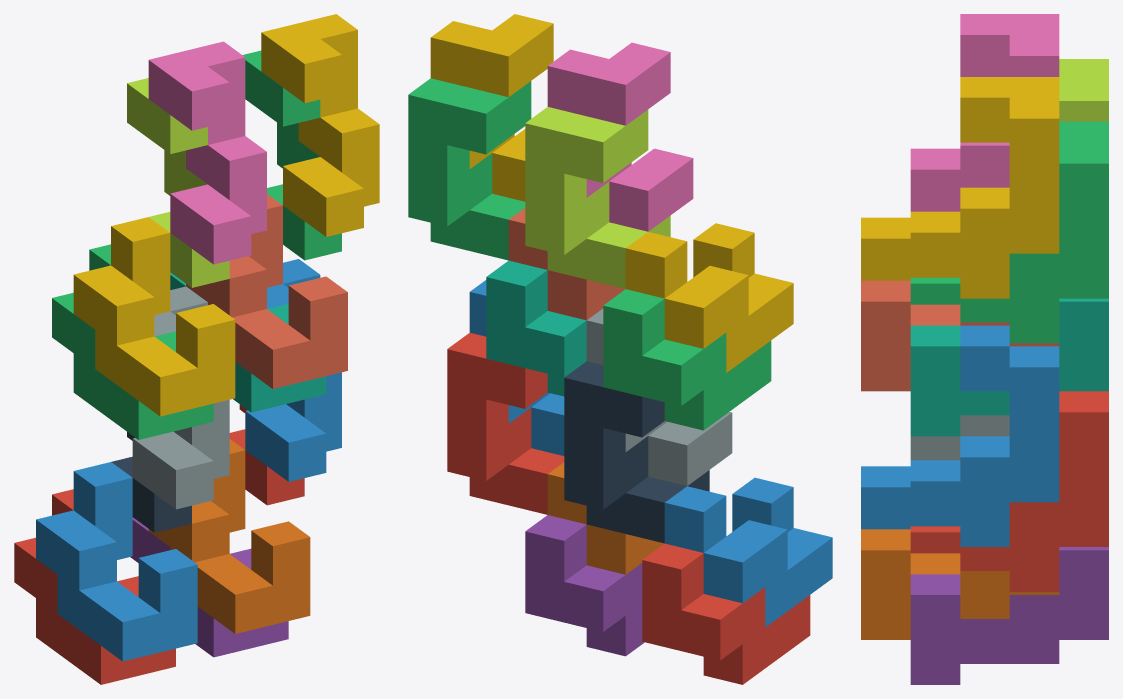
The model's file is tiling.obj.
The picture shows the model from 3 angles, left to right: view 1: azimuth 30°, elevation 25°; view 2: azimuth 150°, elevation 25°; view 3: azimuth 270°, elevation 25°; orthographic projection. The views are drawn at different scales.
Visible parts, largest first — view 1: copy_1_domain_4, copy_1_domain_2, copy_2_domain_4, copy_2_domain_8, copy_1_domain_6, copy_1_domain_8, copy_2_domain_2, copy_2_domain_6, copy_1_domain_3, copy_1_domain_1, copy_2_domain_3, copy_2_domain_7 (+4 smaller); view 2: copy_2_domain_3, copy_2_domain_7, copy_1_domain_4, copy_1_domain_2, copy_2_domain_1, copy_2_domain_5, copy_2_domain_4, copy_1_domain_3, copy_1_domain_1, copy_1_domain_5, copy_2_domain_8, copy_1_domain_7 (+4 smaller); view 3: copy_2_domain_8, copy_2_domain_6, copy_1_domain_5, copy_2_domain_7, copy_2_domain_5, copy_2_domain_4, copy_1_domain_7, copy_1_domain_6, copy_1_domain_8, copy_1_domain_2, copy_1_domain_4, copy_2_domain_3 (+3 smaller).
Boxes of the visible parts, box(x1,y1,x2,y2) form: copy_1_domain_4: box(73, 217, 235, 416); copy_1_domain_2: box(36, 462, 197, 661); copy_2_domain_4: box(148, 41, 266, 264); copy_2_domain_8: box(261, 14, 379, 236); copy_1_domain_6: box(148, 439, 310, 633); copy_1_domain_8: box(186, 194, 347, 388); copy_2_domain_2: box(132, 286, 229, 509); copy_2_domain_6: box(245, 259, 341, 481); copy_1_domain_3: box(52, 244, 213, 439); copy_1_domain_1: box(14, 489, 175, 684); copy_2_domain_3: box(127, 78, 229, 287); copy_2_domain_7: box(242, 50, 341, 260); copy_2_domain_3: box(525, 107, 670, 288); copy_2_domain_7: box(408, 78, 531, 260); copy_1_domain_4: box(625, 223, 793, 372); copy_1_domain_2: box(664, 477, 832, 627); copy_2_domain_1: box(564, 361, 709, 543); copy_2_domain_5: box(447, 333, 564, 514); copy_2_domain_4: box(547, 42, 693, 231); copy_1_domain_3: box(603, 289, 771, 430); copy_1_domain_1: box(642, 543, 810, 684); copy_1_domain_5: box(525, 515, 644, 656); copy_2_domain_8: box(430, 14, 553, 201); copy_1_domain_7: box(486, 260, 586, 396); copy_2_domain_8: box(910, 77, 1059, 298); copy_2_domain_6: box(910, 325, 1059, 546); copy_1_domain_5: box(910, 547, 1108, 684); copy_2_domain_7: box(960, 121, 1108, 343); copy_2_domain_5: box(960, 391, 1108, 591); copy_2_domain_4: box(910, 14, 1059, 211); copy_1_domain_7: box(910, 298, 1108, 436); copy_1_domain_6: box(861, 529, 1059, 639); copy_1_domain_8: box(861, 280, 1059, 391); copy_1_domain_2: box(861, 466, 910, 529); copy_1_domain_4: box(861, 217, 910, 280); copy_2_domain_3: box(1059, 59, 1108, 121).
Size of the model in its own units: 8 by 14 by 5.
